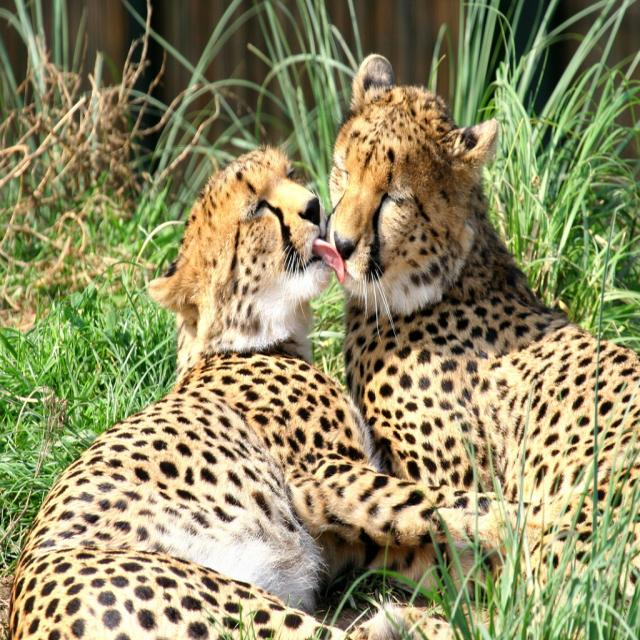Cheetah: (5, 148, 518, 640), (320, 46, 640, 640)
